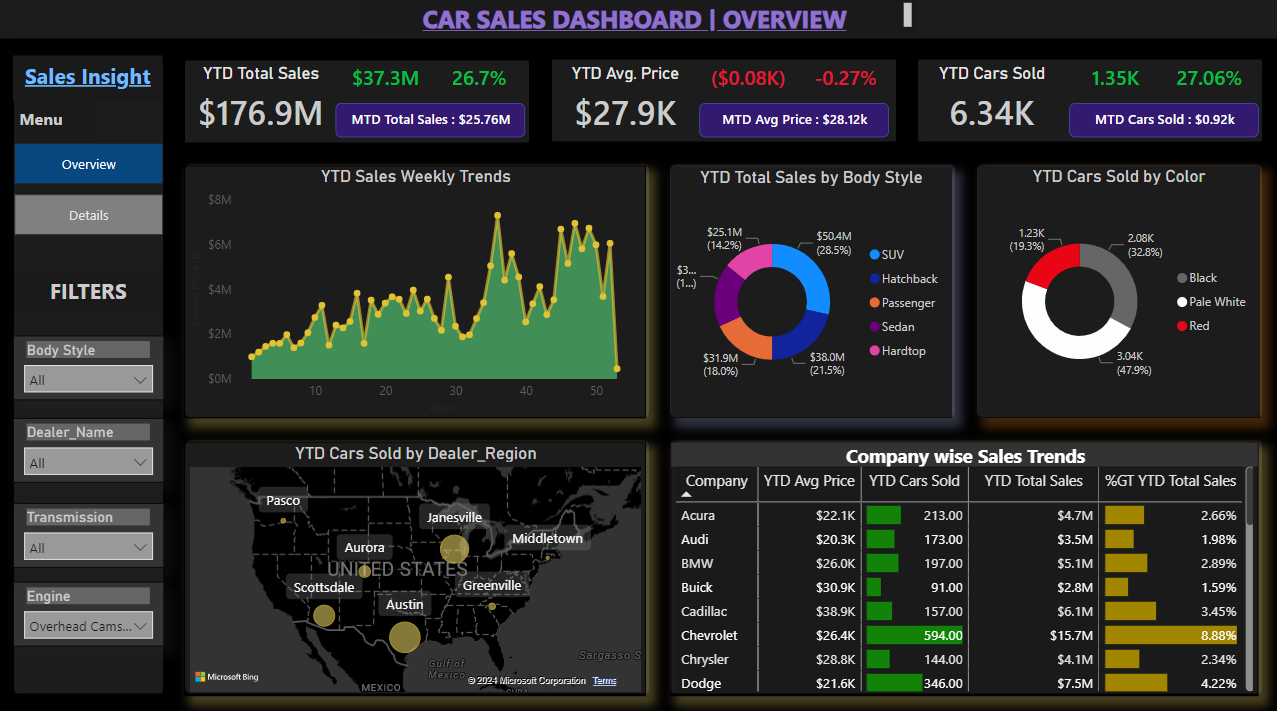

The page's visual inventory and layout, read from the dashboard file:
{"tool":"powerbi","page":{"name":"Overview","canvas":[1280,720],"ordinal":0},"visuals":[{"type":"card","title":"YTD Total Sales","fields":{"Values":["car_data.YTD Total Sales"]},"box":[187,65.1,150.8,79.6],"z":0},{"type":"card","fields":{"Values":["car_data.Sales Difference"]},"box":[338.4,58,98.1,47],"z":1000},{"type":"card","fields":{"Values":["car_data.YoY Growth"]},"box":[432.3,58,98.1,47],"z":2000},{"type":"card","fields":{"Values":["car_data.MTD KPI"]},"box":[337,105,189.2,34.5],"z":3000},{"type":"card","fields":{"Values":["car_data.YoY Avg Price"]},"box":[798.3,58,98.1,47],"z":4000},{"type":"card","title":"YTD Avg. Price","fields":{"Values":["car_data.YTD Avg Price"]},"box":[552.5,65.1,149.6,79.6],"z":5000},{"type":"card","fields":{"Values":["car_data.Avg price Difference"]},"box":[701.6,58,98.1,47],"z":6000},{"type":"card","fields":{"Values":["car_data.MTD Avg Price KPI"]},"box":[701.6,105,189.2,34.5],"z":7000},{"type":"card","title":"YTD Cars Sold","fields":{"Values":["car_data.YTD Cars Sold"]},"box":[918.4,64.9,150.5,80.1],"z":8000},{"type":"card","fields":{"Values":["car_data.YoY Cars Sold"]},"box":[1162.9,58,98.1,47],"z":9000},{"type":"card","fields":{"Values":["car_data.Cars Sold Diff"]},"box":[1069,58,98.1,47],"z":10000},{"type":"card","fields":{"Values":["car_data.MTD Cars Sold KPI"]},"box":[1071.7,105,189.2,34.5],"z":11000},{"type":"areaChart","title":"YTD Sales Weekly Trends","fields":{"Y":["Sum(car_data.Price ($))"],"Category":["Calander Table.Week"]},"box":[186.4,167.1,461.3,252.7],"z":12000},{"type":"donutChart","fields":{"Y":["car_data.YTD Total Sales"],"Category":["car_data.Body Style"]},"box":[672.6,168.5,281.7,251.4],"z":13000},{"type":"donutChart","fields":{"Y":["car_data.YTD Cars Sold"],"Series":["car_data.Color"]},"box":[980.6,167.1,281.7,252.7],"z":14000},{"type":"map","fields":{"Category":["car_data.Dealer_Region"],"Size":["car_data.YTD Cars Sold"]},"box":[186.4,443.3,461.3,254.1],"z":15000},{"type":"pivotTable","title":"Company wise Sales Trends ","fields":{"Values":["car_data.YTD Avg Price","car_data.YTD Cars Sold","car_data.YTD Total Sales","Divide(car_data.YTD Total Sales, ScopedEval(car_data.YTD Total Sales, []))"],"Rows":["car_data.Company"]},"box":[672.6,443.3,588.3,254.1],"z":16000},{"type":"slicer","fields":{"Values":["car_data.Body Style"]},"box":[14.5,337.8,150.8,65.1],"z":17000},{"type":"slicer","fields":{"Values":["car_data.Dealer_Name"]},"box":[14.5,419.8,150.8,65.1],"z":18000},{"type":"slicer","fields":{"Values":["car_data.Transmission"]},"box":[14.5,505.5,150.8,65.1],"z":19000},{"type":"slicer","fields":{"Values":["car_data.Engine"]},"box":[14.5,583.9,150.8,65.1],"z":20000},{"type":"textbox","box":[15.7,272.7,148.4,43.4],"z":21000},{"type":"textbox","box":[361.9,0,556.2,43.4],"z":22000},{"type":"textbox","box":[14.5,57.9,149.6,45.8],"z":23000},{"type":"textbox","box":[15.7,105,83.2,39.8],"z":24000},{"type":"pageNavigator","box":[15.7,144.8,149.6,92.9],"z":25000}]}

Visuals, with their boxes in screenshot pixels (x1, y1, x2, y2), scaled from the page's 1280x720 canvas onto the 1277x711 screenshot:
"YTD Total Sales" card: 187:64:337:143
card - car_data.Sales Difference: 338:57:435:104
card - car_data.YoY Growth: 431:57:529:104
card - car_data.MTD KPI: 336:104:525:138
card - car_data.YoY Avg Price: 796:57:894:104
"YTD Avg. Price" card: 551:64:700:143
card - car_data.Avg price Difference: 700:57:798:104
card - car_data.MTD Avg Price KPI: 700:104:889:138
"YTD Cars Sold" card: 916:64:1066:143
card - car_data.YoY Cars Sold: 1160:57:1258:104
card - car_data.Cars Sold Diff: 1066:57:1164:104
card - car_data.MTD Cars Sold KPI: 1069:104:1258:138
"YTD Sales Weekly Trends" areaChart: 186:165:646:415
donutChart - car_data.YTD Total Sales x car_data.Body Style: 671:166:952:415
donutChart - car_data.YTD Cars Sold x car_data.Color: 978:165:1259:415
map - car_data.Dealer_Region x car_data.YTD Cars Sold: 186:438:646:689
"Company wise Sales Trends " pivotTable: 671:438:1258:689
slicer - car_data.Body Style: 14:334:165:398
slicer - car_data.Dealer_Name: 14:415:165:479
slicer - car_data.Transmission: 14:499:165:563
slicer - car_data.Engine: 14:577:165:641
textbox: 16:269:164:312
textbox: 361:0:916:43
textbox: 14:57:164:102
textbox: 16:104:99:143
pageNavigator: 16:143:165:235
